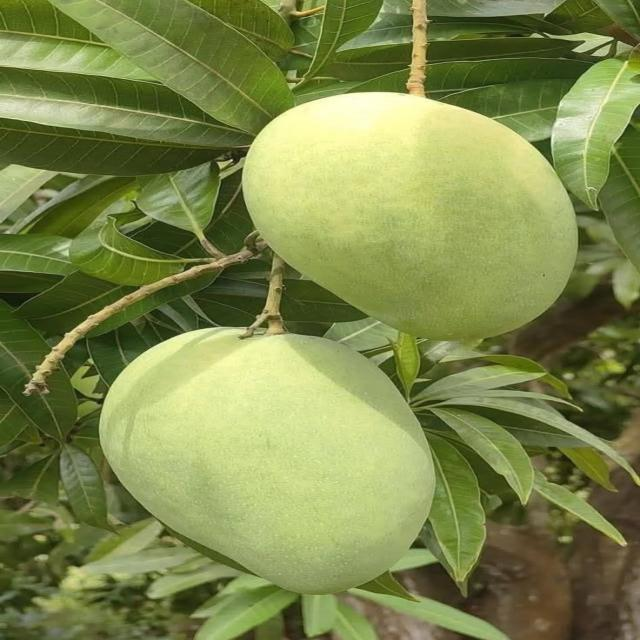mango: (100, 329, 434, 593), (244, 93, 576, 339)
